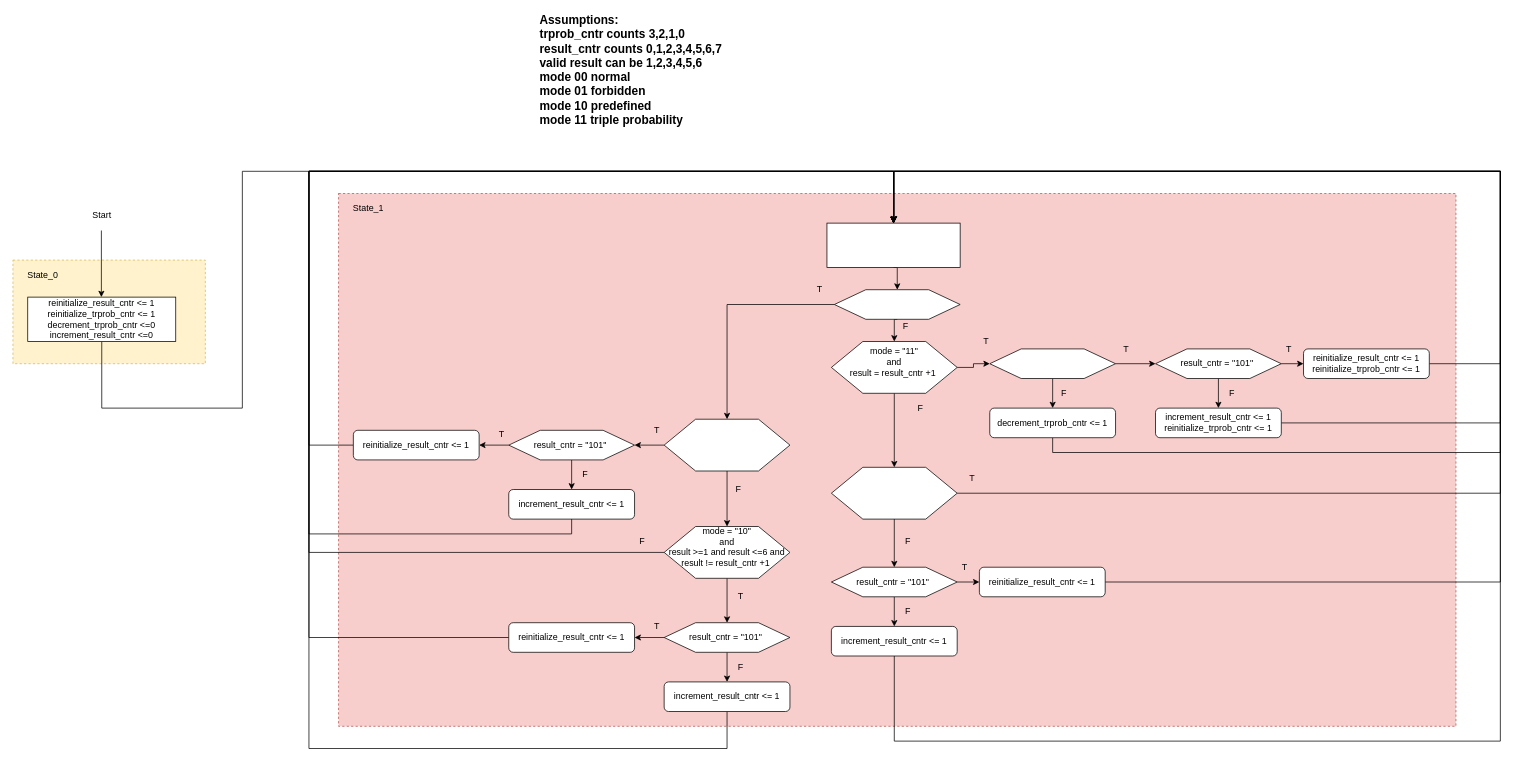
The diagram is 1519 pixels wide and 767 high, and some of its shapes have lost their labels. The box of each missing label's shape, as (x1, y1, x2, y2) in pixels:
mode = "01" and result = result_cntr +1: (663, 418, 790, 471)
mode = "10" and result = result_cntr +1: (831, 467, 957, 519)
stop = 1: (834, 289, 960, 319)
trprob_cntr < 2: (989, 348, 1116, 379)
